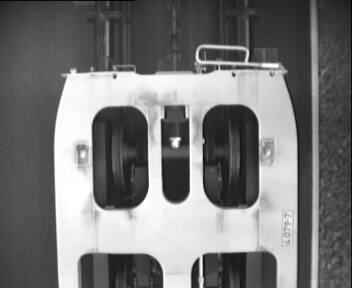Copy of Copy of wagon_scan: (86, 99, 269, 213)
